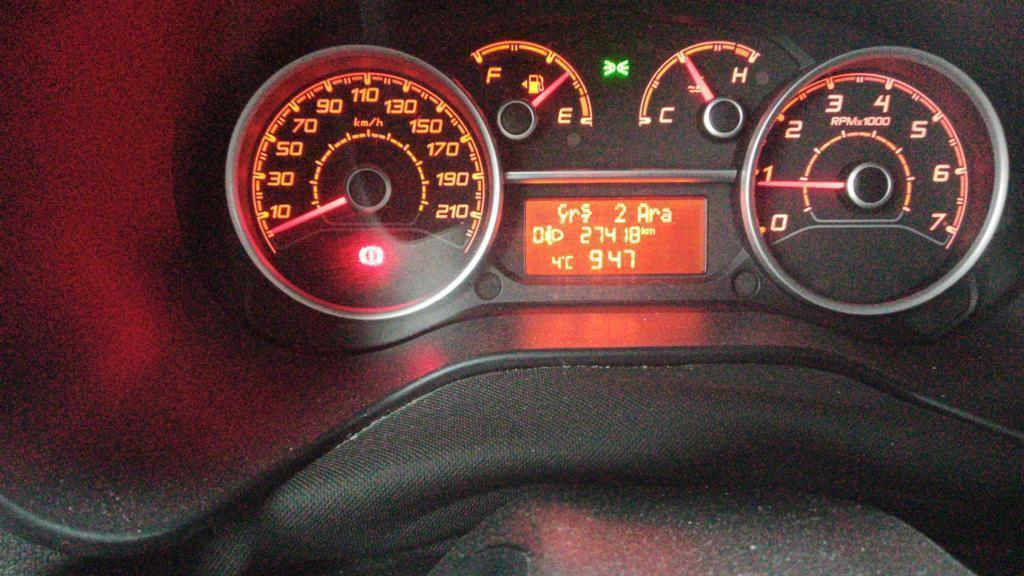0: (532, 224, 544, 244)
1: (623, 226, 628, 242)
2: (614, 201, 628, 223), (580, 226, 591, 245)
4: (607, 249, 621, 269), (604, 226, 617, 243), (551, 254, 561, 269)
7: (623, 248, 636, 269), (593, 224, 604, 243)
8: (629, 225, 640, 244)
9: (590, 248, 602, 270)
X: (637, 201, 649, 224), (557, 202, 568, 224), (580, 202, 591, 223), (648, 206, 660, 224), (660, 206, 672, 223), (565, 254, 576, 270), (568, 207, 579, 223), (646, 227, 656, 235), (640, 225, 646, 235)
odometer: (520, 193, 708, 275)
